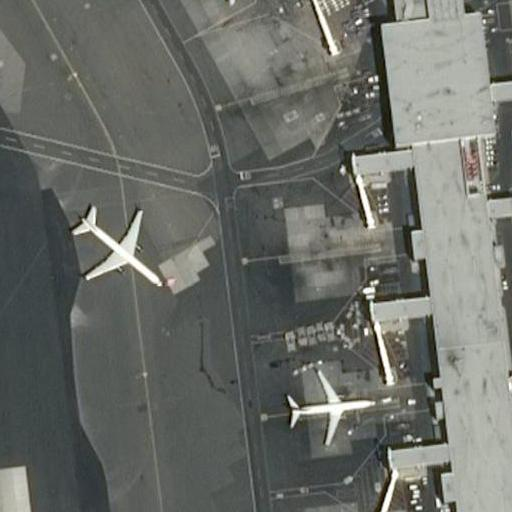Aircraft: (60, 194, 168, 292), (279, 358, 377, 442), (140, 0, 280, 5)
